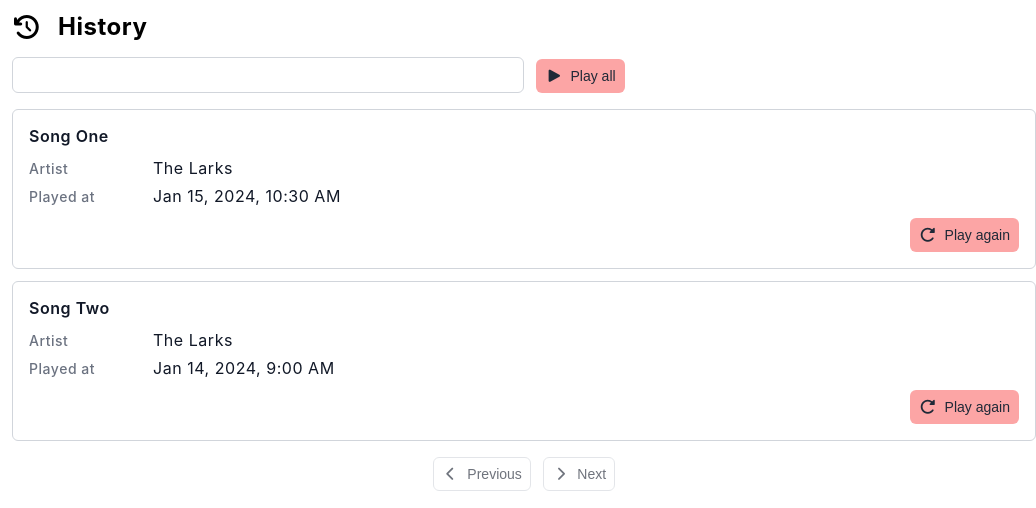
Test: HistoryView › filters entries client-side by title or artist
In the search field: (268, 75) left=12, top=57, right=524, bottom=93, type "two"
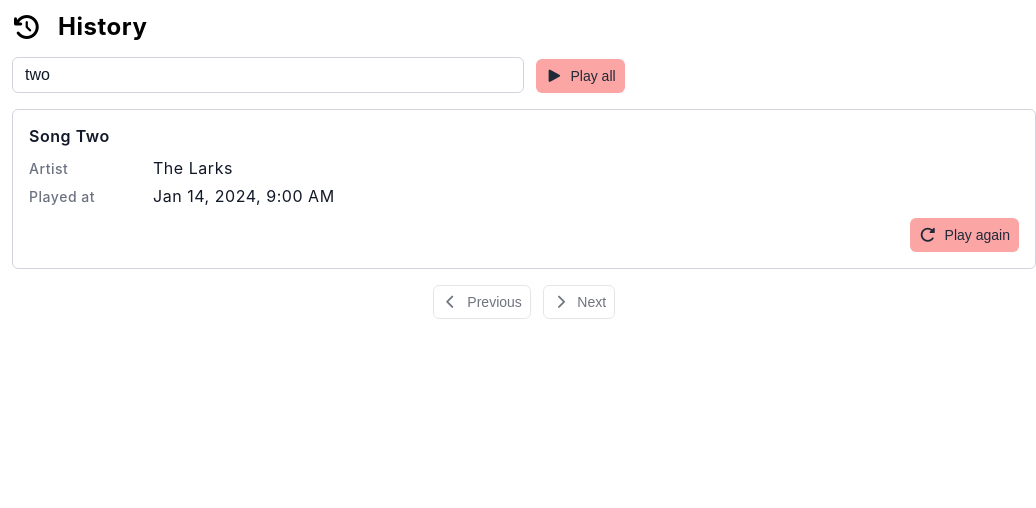
Expected: the text "Song Two" is shown, left=29, top=126, right=110, bottom=146
Now the text "Song One" is gone
